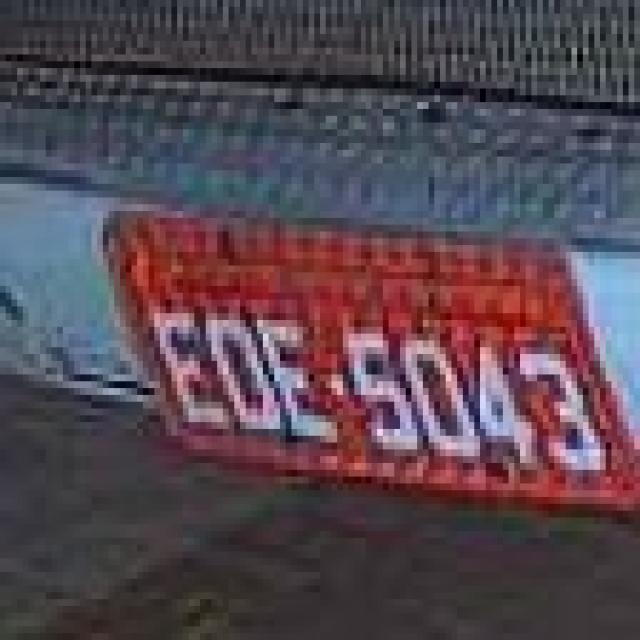0: (398, 328, 473, 473)
3: (518, 324, 596, 481)
4: (464, 326, 537, 477)
5: (339, 318, 419, 469)
E: (142, 302, 223, 428), (262, 310, 335, 447)
O: (209, 307, 279, 443)
